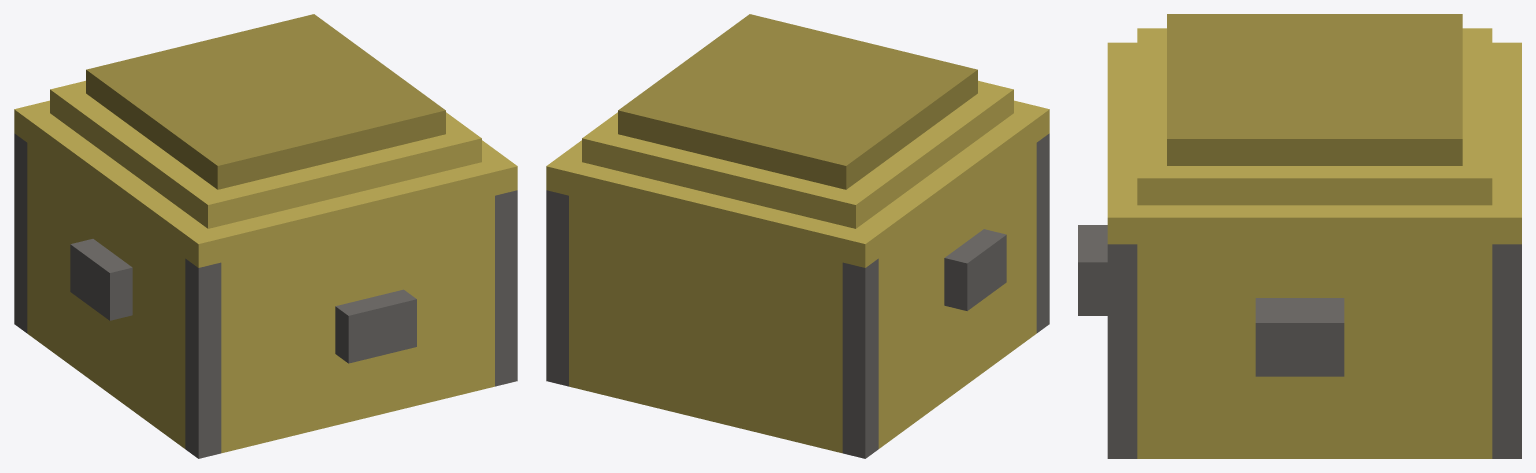
File: cofre_tesoro_asentamiento_01.glb
The picture shows the model from 3 angles, left to right: view 1: azimuth 30°, elevation 25°; view 2: azimuth 150°, elevation 25°; view 3: azimuth 270°, elevation 25°; orthographic projection. The views are drawn at different scales.
Parts seen in each view (by area): view 1: cofre_tesoro_asentamiento; view 2: cofre_tesoro_asentamiento; view 3: cofre_tesoro_asentamiento.
Part boxes in pixels (x1,y1,x2,y2): cofre_tesoro_asentamiento: [14, 14, 517, 458]; cofre_tesoro_asentamiento: [546, 14, 1049, 458]; cofre_tesoro_asentamiento: [1078, 14, 1521, 458].
Bounding box in the file's own units: 1.21 × 0.7857 × 1.07.
